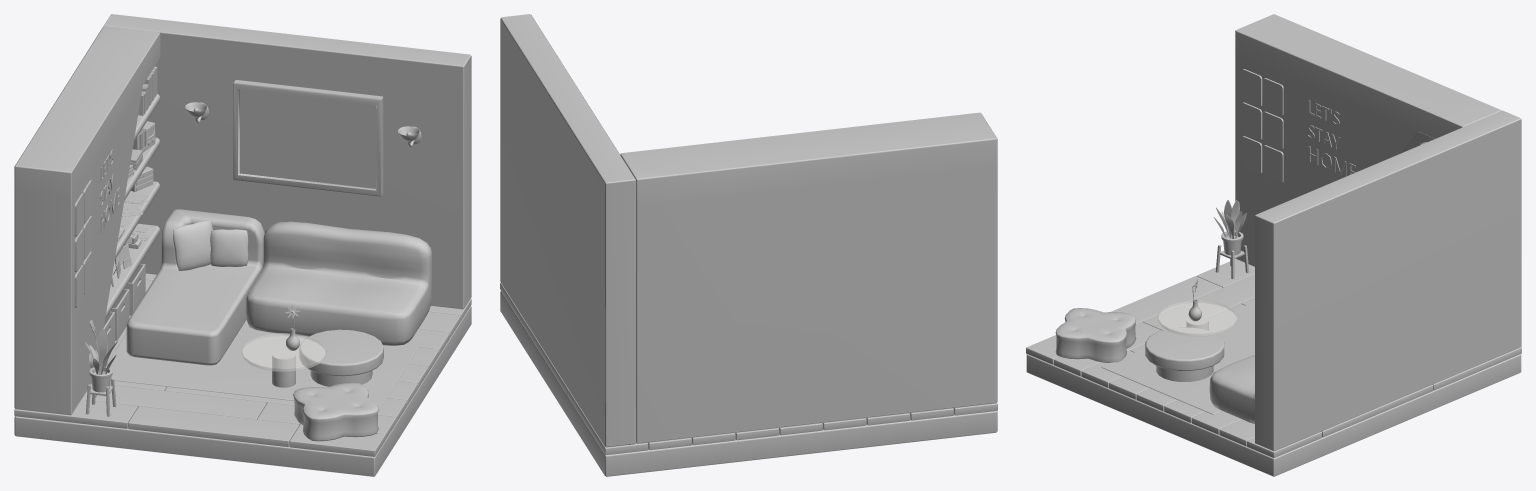
File: Living_Room_8.fbx
3 views of the same model, side by side, from view 1: azimuth 30°, elevation 25°; view 2: azimuth 150°, elevation 25°; view 3: azimuth 270°, elevation 25° (orthographic). The views are drawn at different scales.
Parts seen in each view (by area): view 1: Room_8_Wall_1, Room_8_Wall_2, Room_8_Couch_1, Room_8_Floor_2, Room_8_Picture_1, Room_8_Couch_2, Room_8_Floor_1, Room_8_Carpet_1, Room_8_Pouf_1, Room_8_Table_1, Room_8_Table_2, Room_8_Wall_Decoration_1 (+10 smaller); view 2: Room_8_Wall_2, Room_8_Wall_1, Room_8_Floor_1, Room_8_Floor_2; view 3: Room_8_Wall_1, Room_8_Wall_2, Room_8_Floor_2, Room_8_Floor_1, Room_8_Carpet_1, Room_8_Wall_Decoration_1, Room_8_Pouf_1, Room_8_Table_1, Room_8_Couch_1, Room_8_Table_2, Room_8_Plant_on_stand_1, Room_8_Neon_sign_1.
Part boxes in pixels (bbox=[...]): Room_8_Wall_1: bbox=[103, 14, 471, 309]; Room_8_Wall_2: bbox=[14, 26, 160, 415]; Room_8_Couch_1: bbox=[245, 221, 432, 345]; Room_8_Floor_2: bbox=[14, 273, 471, 456]; Room_8_Picture_1: bbox=[233, 80, 383, 196]; Room_8_Couch_2: bbox=[126, 209, 264, 365]; Room_8_Floor_1: bbox=[14, 306, 471, 476]; Room_8_Carpet_1: bbox=[108, 320, 422, 410]; Room_8_Pouf_1: bbox=[293, 382, 378, 441]; Room_8_Table_1: bbox=[299, 329, 383, 386]; Room_8_Table_2: bbox=[241, 333, 326, 387]; Room_8_Wall_Decoration_1: bbox=[74, 180, 92, 307]; Room_8_Wall_2: bbox=[620, 112, 997, 443]; Room_8_Wall_1: bbox=[500, 14, 636, 447]; Room_8_Floor_1: bbox=[500, 291, 997, 476]; Room_8_Floor_2: bbox=[500, 282, 997, 455]; Room_8_Wall_1: bbox=[1255, 110, 1521, 451]; Room_8_Wall_2: bbox=[1235, 14, 1501, 266]; Room_8_Floor_2: bbox=[1026, 259, 1521, 457]; Room_8_Floor_1: bbox=[1026, 354, 1521, 476]; Room_8_Carpet_1: bbox=[1101, 302, 1254, 414]; Room_8_Wall_Decoration_1: bbox=[1241, 69, 1283, 183]; Room_8_Pouf_1: bbox=[1055, 308, 1136, 362]; Room_8_Table_1: bbox=[1145, 327, 1224, 381]; Room_8_Couch_1: bbox=[1209, 355, 1254, 423]; Room_8_Table_2: bbox=[1158, 300, 1236, 336]; Room_8_Plant_on_stand_1: bbox=[1213, 200, 1249, 279]; Room_8_Neon_sign_1: bbox=[1308, 100, 1355, 176].
Size of the model in its own units: 706 by 400 by 706.
